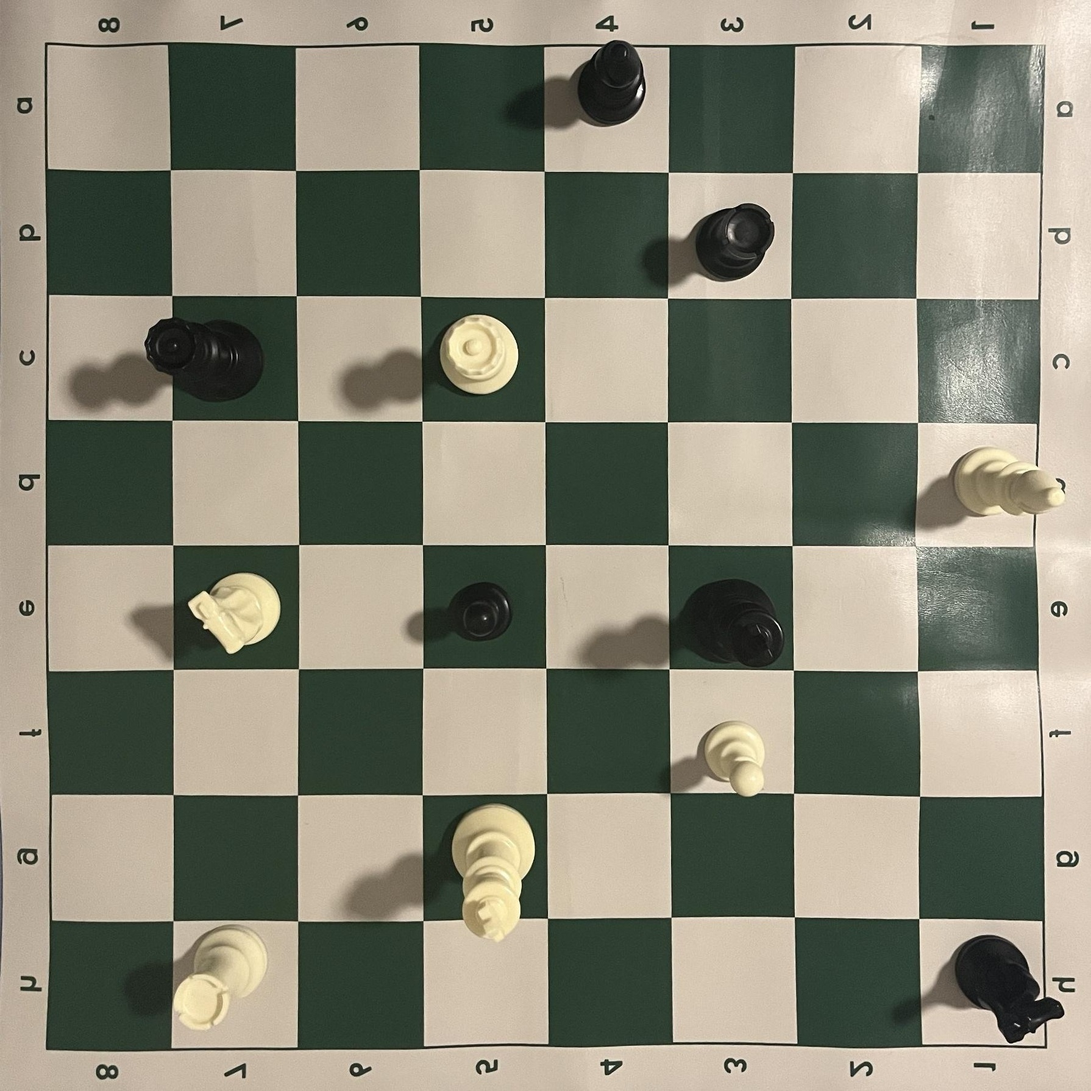black_bishop: (577, 40, 647, 127)
black_king: (681, 578, 787, 669)
black_knight: (953, 934, 1066, 1045)
black_pawn: (446, 581, 513, 644)
black_queen: (143, 316, 265, 403)
black_rook: (694, 202, 776, 282)
white_bishop: (951, 445, 1067, 519)
white_king: (450, 802, 537, 944)
white_knight: (187, 572, 282, 655)
white_pawn: (702, 719, 767, 798)
white_queen: (438, 313, 521, 396)
white_rook: (171, 923, 269, 1034)
